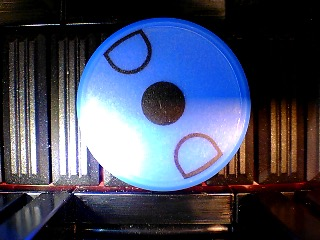BOHOMIPO2: (76, 17, 251, 192)
